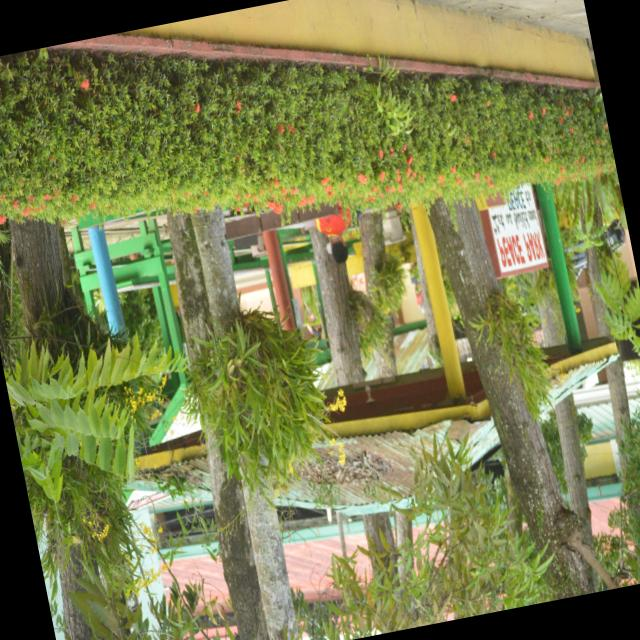person: (315, 206, 351, 262)
